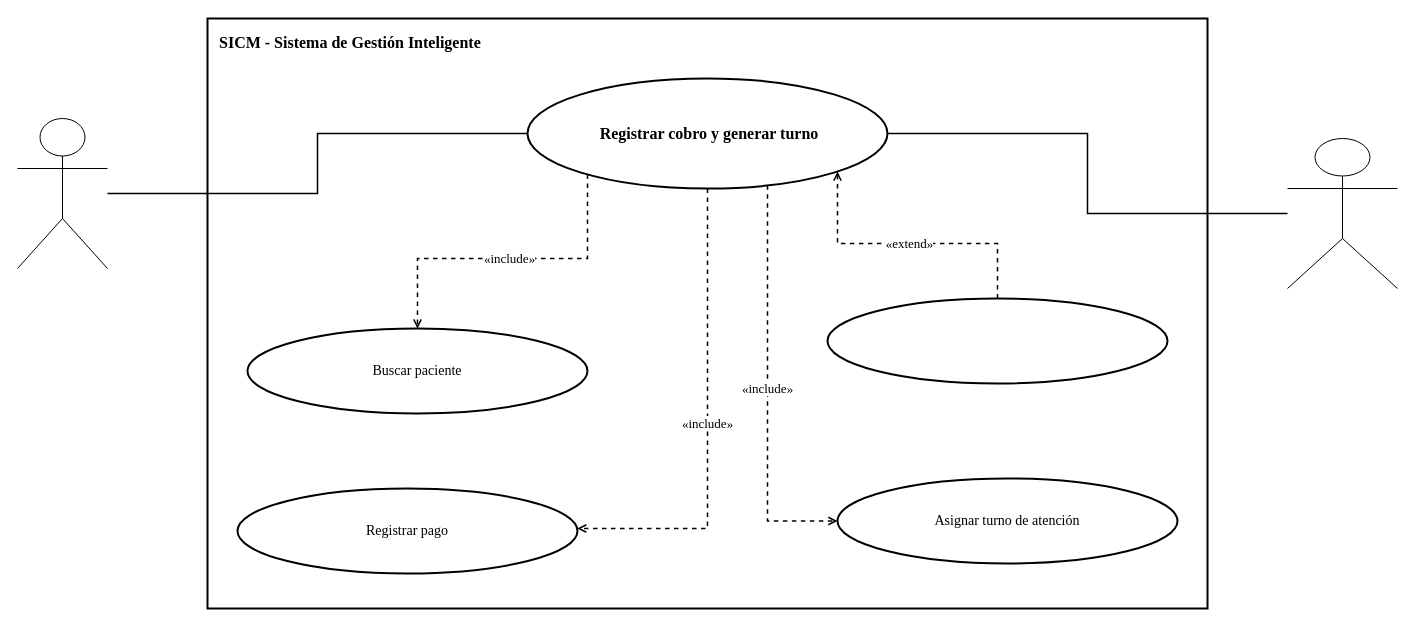
The diagram is 1415 pixels wide and 626 high, and some of its shapes have lost their labels. The centre of each missing label's shape, as x and y in pixels:
"Paciente" goes at point 1342,213.
"Recepcionista" goes at point 62,193.
"Registrar pago parcial" goes at point 997,340.
